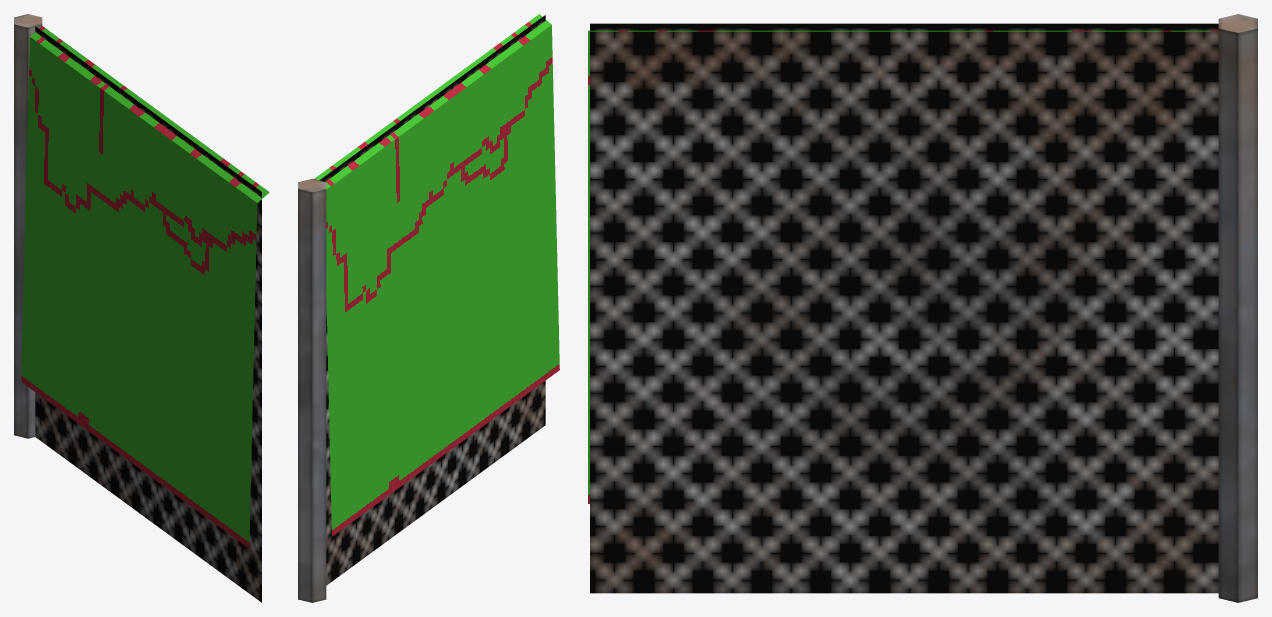
Rendered from OvergrownFence.fbx.
3 renders of one model, left to right at view 1: azimuth 30°, elevation 25°; view 2: azimuth 150°, elevation 25°; view 3: azimuth 270°, elevation 25°, orthographic. The views are drawn at different scales.
Visible parts, largest first — view 1: Overgrowth, Chain Links, FencePost; view 2: Overgrowth, Chain Links, FencePost; view 3: Chain Links, FencePost, Overgrowth.
Part boxes in pixels (<box>): Overgrowth: <box>21,26,269,548</box>; Chain Links: <box>35,26,261,602</box>; FencePost: <box>14,14,42,438</box>; Overgrowth: <box>314,14,559,536</box>; Chain Links: <box>319,15,545,585</box>; FencePost: <box>298,178,326,602</box>; Chain Links: <box>590,23,1218,593</box>; FencePost: <box>1218,14,1257,602</box>; Overgrowth: <box>588,30,1218,503</box>.
Bounding box in the file's own units: 14.43 × 200 × 213.
2 materials, 2 textured.
